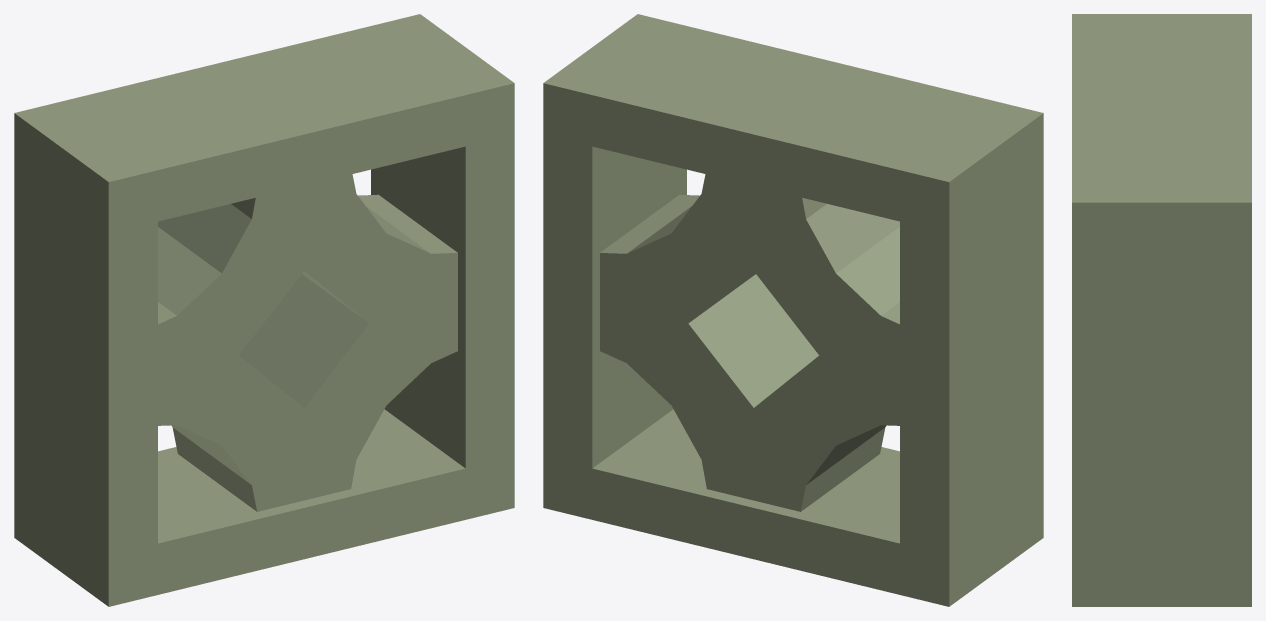
File: SM_Wall_BreezeBlock_03.fbx
The picture shows the model from 3 angles, left to right: view 1: azimuth 30°, elevation 25°; view 2: azimuth 150°, elevation 25°; view 3: azimuth 270°, elevation 25°; orthographic projection. The views are drawn at different scales.
Visible parts, largest first — view 1: SM_Wall_BreezeBlock_03; view 2: SM_Wall_BreezeBlock_03; view 3: SM_Wall_BreezeBlock_03.
Part boxes in pixels (x1,y1,x2,y2): SM_Wall_BreezeBlock_03: (14, 14, 514, 606); SM_Wall_BreezeBlock_03: (543, 14, 1043, 606); SM_Wall_BreezeBlock_03: (1072, 14, 1251, 606).
Size of the model in its own units: 0.248 by 0.248 by 0.1.
1 material, 1 textured.
